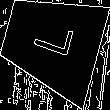L_W: (27, 21, 77, 65)
